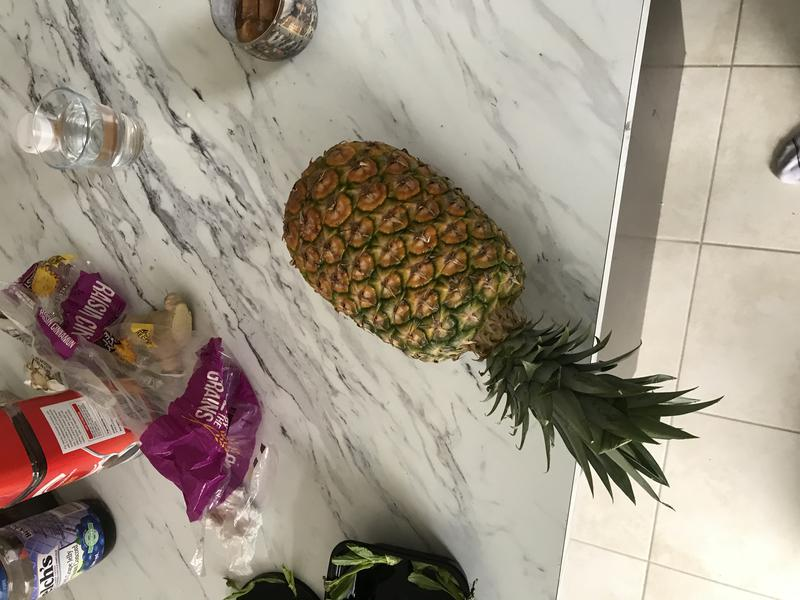pineapple: (276, 132, 729, 524)
